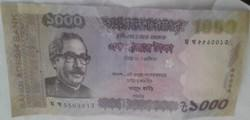1000 taka: (1, 4, 243, 119)
